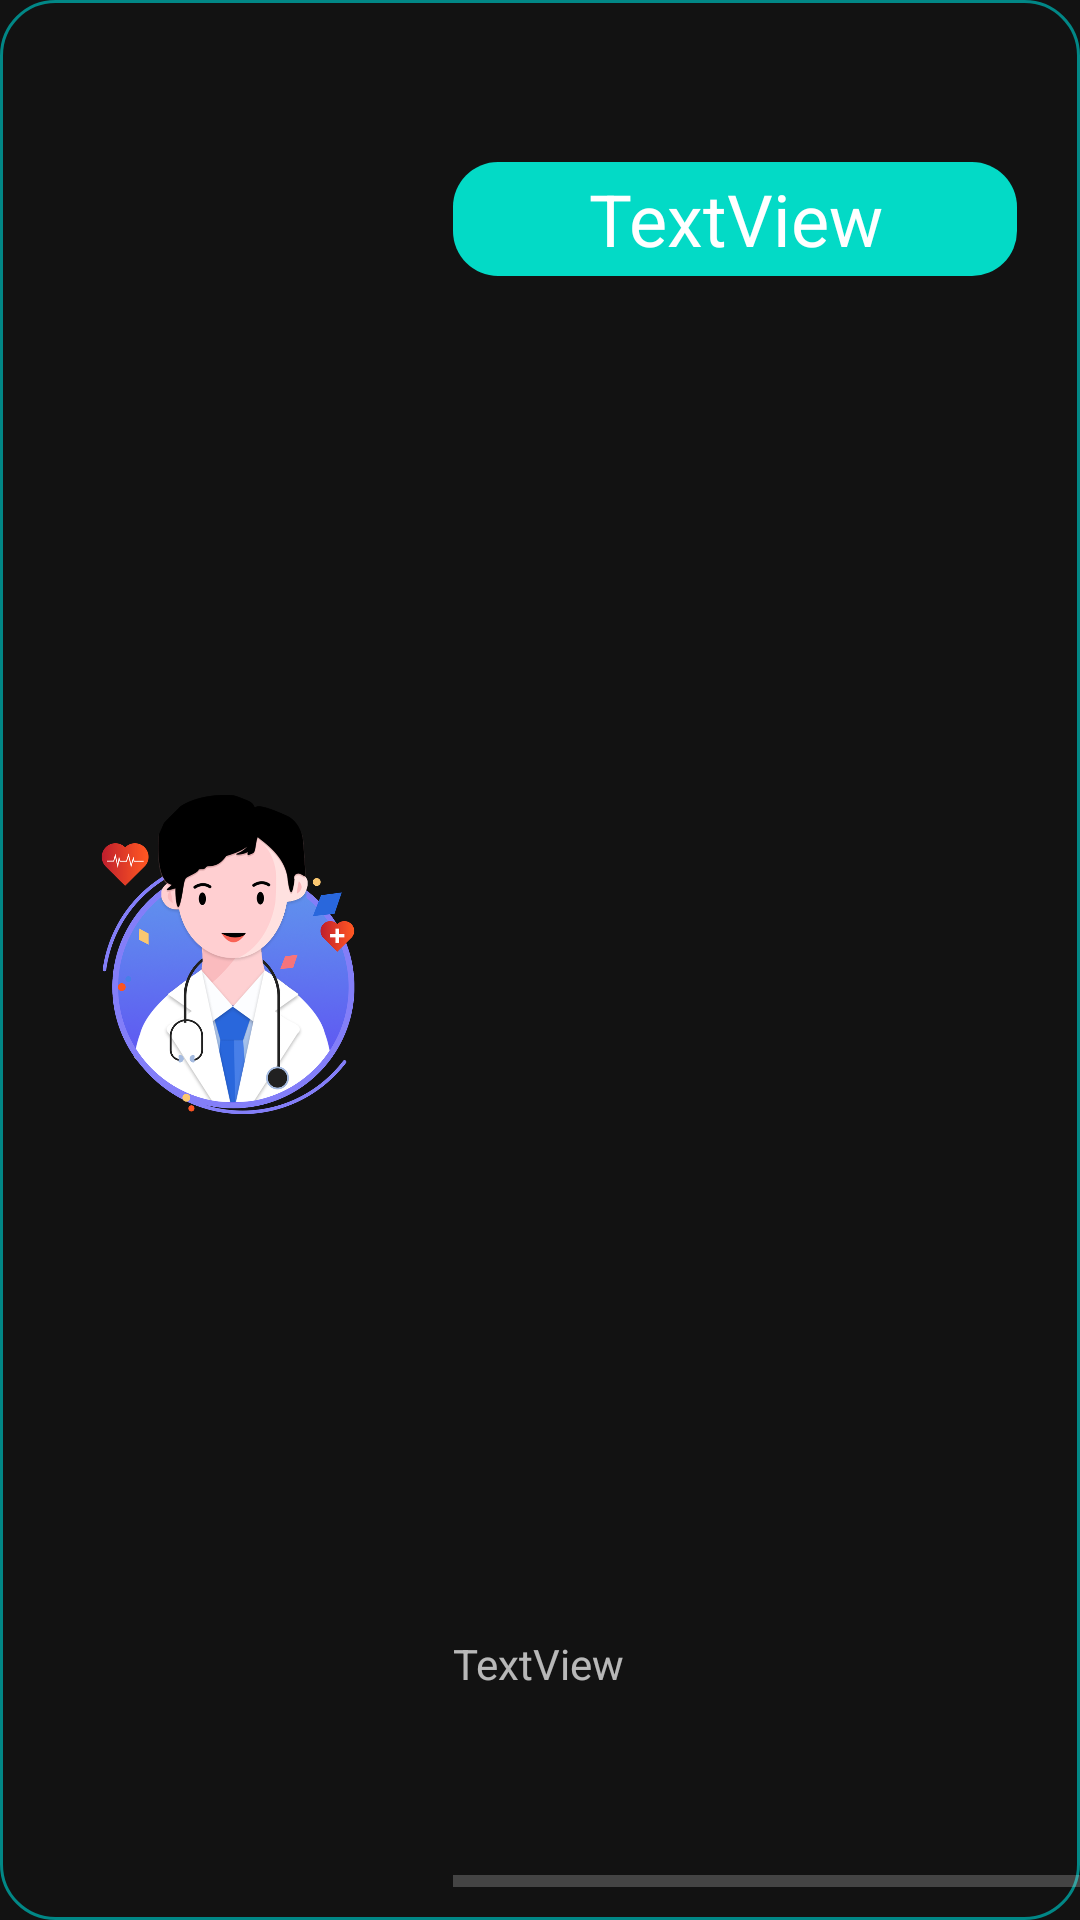

Icon click points for this 1080×1920 phone screenshot, format [x,y]:
doctor illustration: [228,975]
